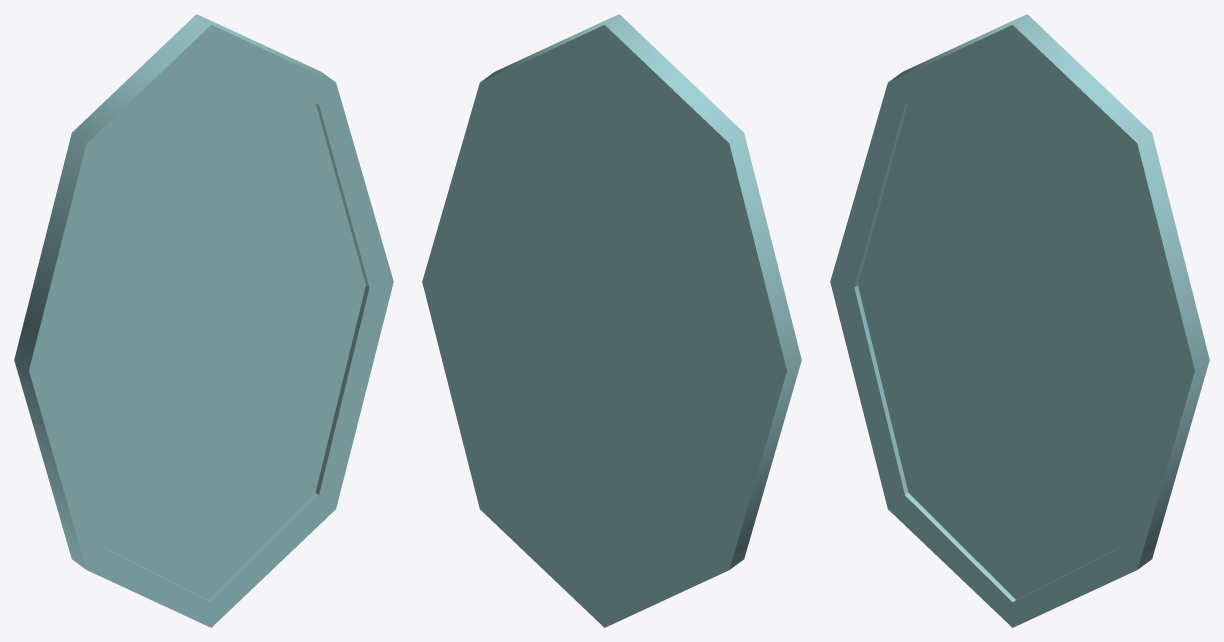
Rendered from Itr_Obj_Frame3_06.FBX.
The picture shows the model from 3 angles, left to right: view 1: azimuth 30°, elevation 25°; view 2: azimuth 150°, elevation 25°; view 3: azimuth 330°, elevation 25°; orthographic projection.
Parts seen in each view (by area): view 1: Itr_Obj_Frame3_06; view 2: Itr_Obj_Frame3_06; view 3: Itr_Obj_Frame3_06.
Boxes of the visible parts, box(x1,y1,x2,y2) form: Itr_Obj_Frame3_06: box(14, 14, 393, 627); Itr_Obj_Frame3_06: box(422, 14, 801, 627); Itr_Obj_Frame3_06: box(830, 14, 1209, 627).
Bounding box in the file's own units: 33.22 × 52.48 × 2.32.
